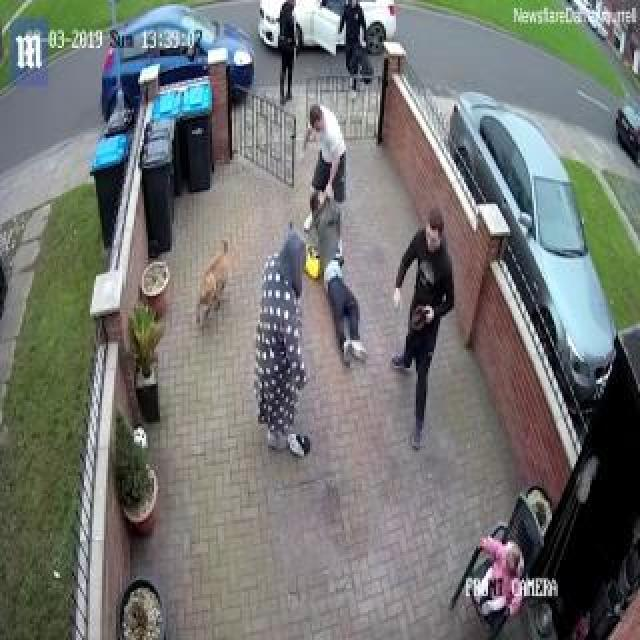fight: (294, 109, 386, 385)
